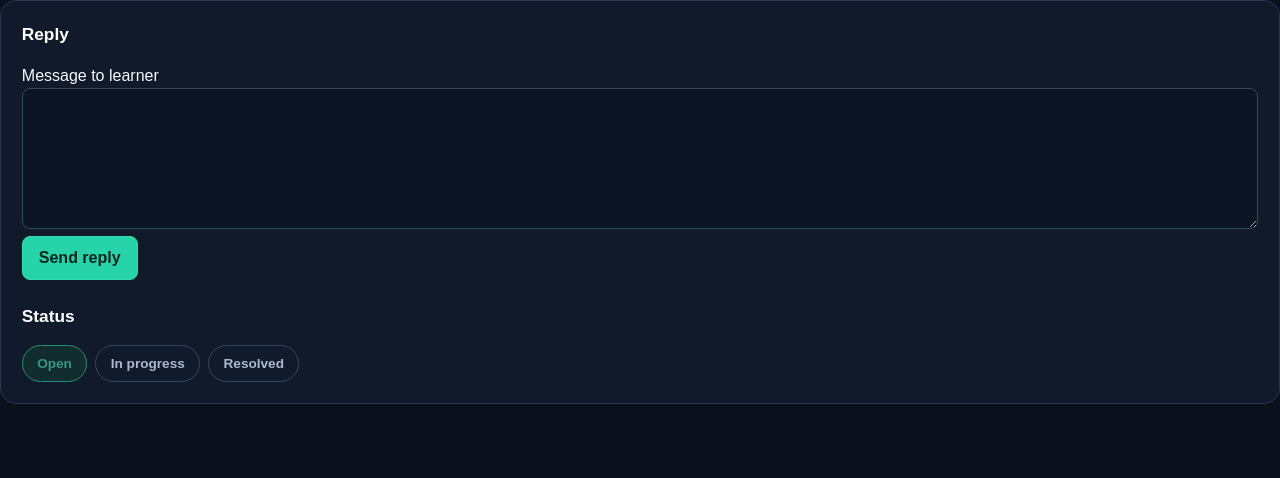
Scenario: SupportTicketPanel › disables the current status and lets staff move to another one
Expected: the button "Open" is disabled, [22,345,87,382]
Click the button "Resolved": [254, 364] box [208,345,299,382]
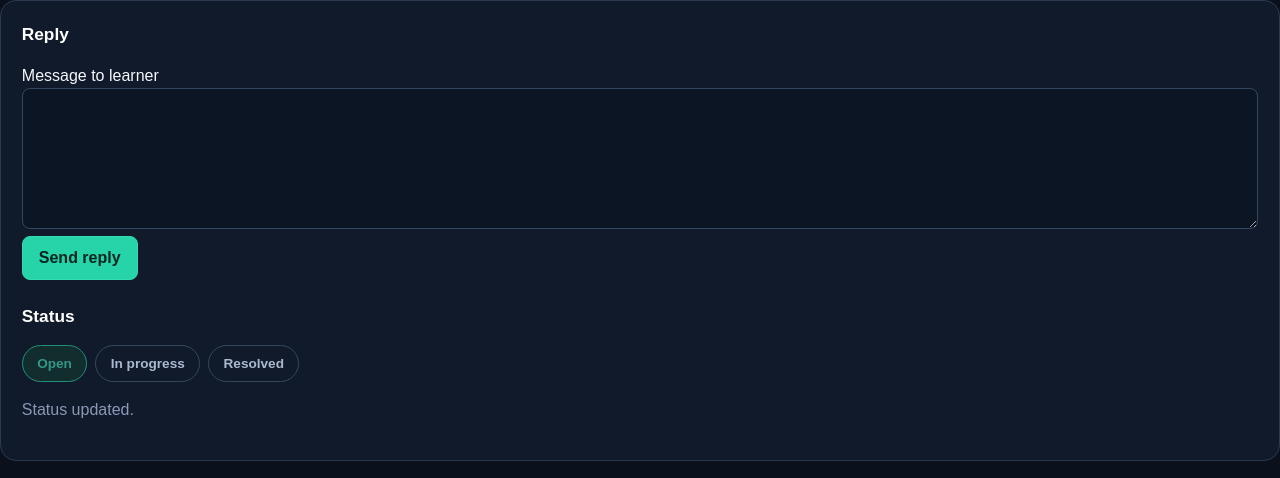
Result: the message reads "Status updated." at [22,401,134,418]
